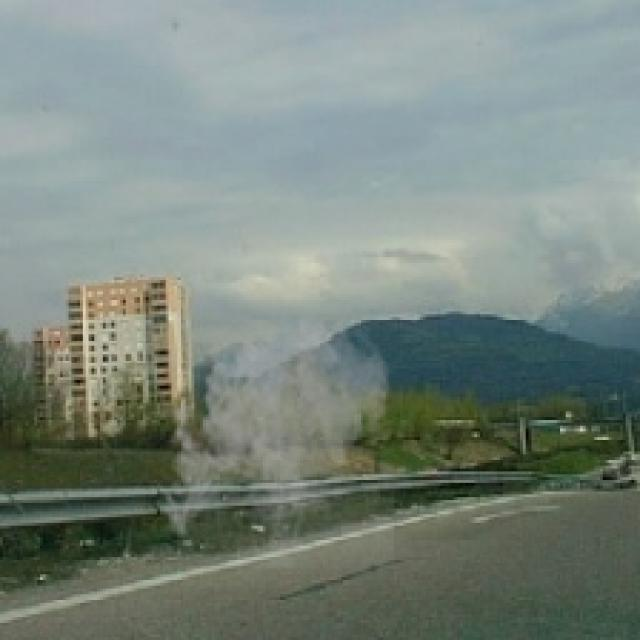smoke: (157, 303, 397, 568)
